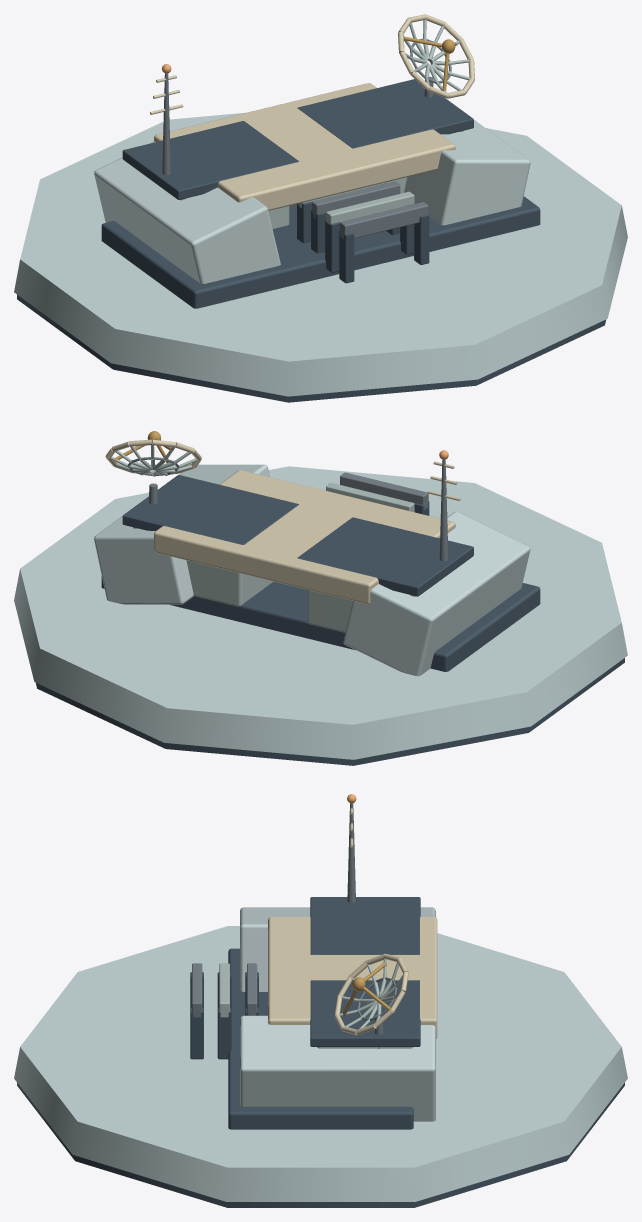
File: rookfall.glb
3 renders of one model, top to bottom at view 1: azimuth 30°, elevation 25°; view 2: azimuth 150°, elevation 25°; view 3: azimuth 270°, elevation 25°, orthographic. The views are drawn at different scales.
Parts seen in each view (by area): view 1: Terrain cutaway, Snow berm (×2), Roof slab (×2), Bunker roof, Structural deck, Tunnel arch top (×3), Substrate, Tunnel wall (×5), Antenna mast; view 2: Terrain cutaway, Snow berm (×2), Roof slab (×2), Bunker roof, Structural deck, Habitat pressure shell (×2), Substrate, Tunnel arch top (×2), Antenna mast; view 3: Terrain cutaway, Snow berm (×2), Roof slab (×2), Bunker roof, Structural deck, Substrate, Tunnel arch top (×3), Tunnel wall (×2), Antenna mast.
Boxes of the visible parts, left/top/right/bottom form: Terrain cutaway: left=14, top=112, right=627, bottom=396; Snow berm (×2): left=94, top=120, right=530, bottom=283; Roof slab (×2): left=122, top=79, right=473, bottom=199; Bunker roof: left=154, top=83, right=455, bottom=210; Structural deck: left=101, top=196, right=540, bottom=308; Tunnel arch top (×3): left=312, top=181, right=428, bottom=239; Substrate: left=17, top=295, right=606, bottom=402; Tunnel wall (×5): left=297, top=201, right=429, bottom=283; Antenna mast: left=162, top=73, right=170, bottom=174; Terrain cutaway: left=14, top=466, right=627, bottom=759; Snow berm (×2): left=94, top=464, right=530, bottom=676; Roof slab (×2): left=122, top=475, right=473, bottom=596; Bunker roof: left=154, top=470, right=455, bottom=604; Structural deck: left=101, top=576, right=540, bottom=671; Habitat pressure shell (×2): left=133, top=527, right=416, bottom=632; Substrate: left=36, top=658, right=624, bottom=765; Tunnel arch top (×2): left=326, top=472, right=428, bottom=512; Antenna mast: left=439, top=459, right=448, bottom=561; Terrain cutaway: left=14, top=926, right=627, bottom=1201; Snow berm (×2): left=240, top=907, right=435, bottom=1121; Roof slab (×2): left=310, top=897, right=420, bottom=1046; Bunker roof: left=268, top=917, right=437, bottom=1038; Structural deck: left=228, top=948, right=413, bottom=1129; Substrate: left=17, top=1083, right=624, bottom=1207; Tunnel arch top (×3): left=192, top=963, right=257, bottom=1017; Tunnel wall (×2): left=190, top=1008, right=231, bottom=1059; Antenna mast: left=347, top=803, right=355, bottom=902.
Size of the model in its own units: 5.52 by 2.34 by 5.8.
